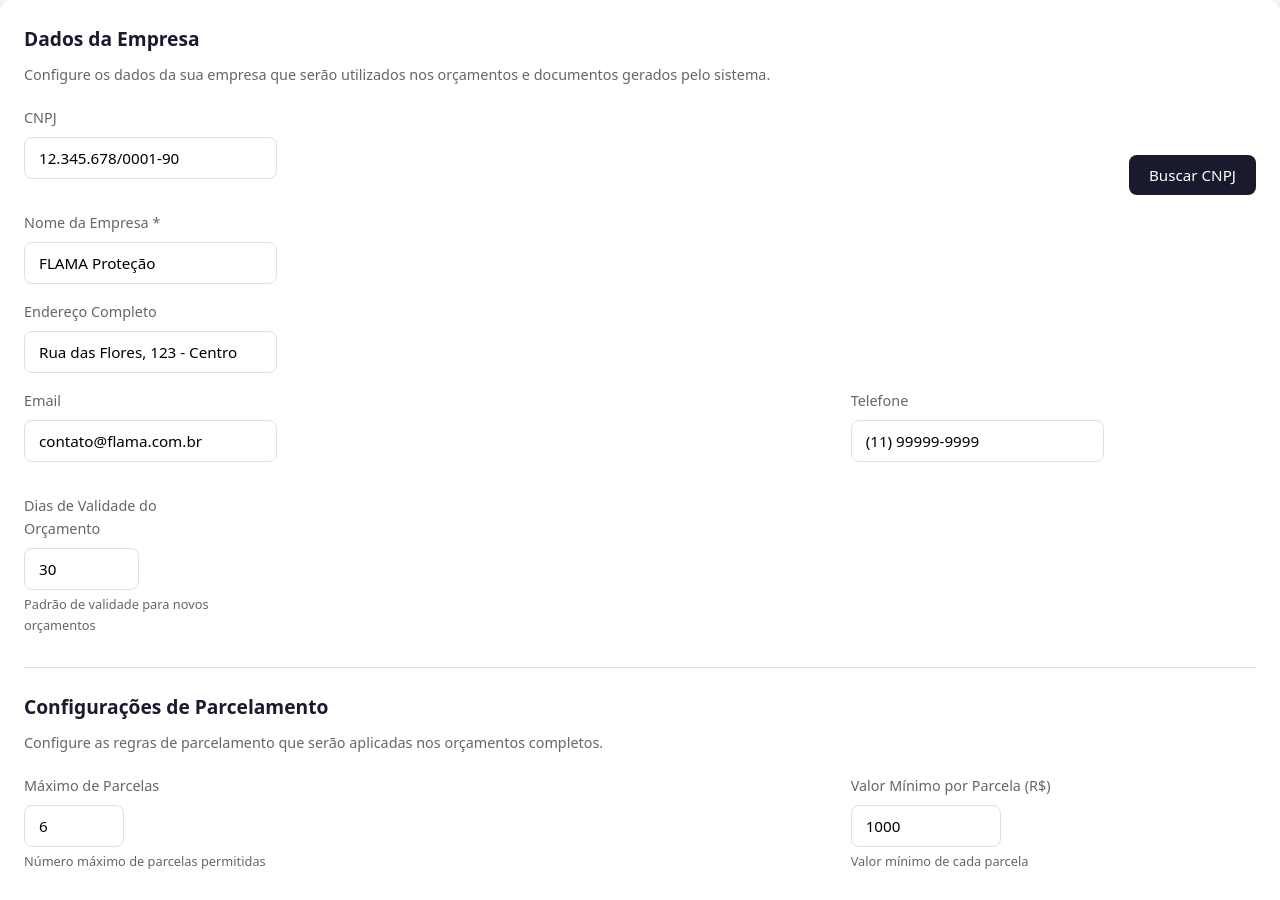
it: EmpresaTab › Interações com formulário › deve formatar CNPJ ao digitar
Replace the text in the 1st field showing "12.345.678/0001-90" with "11222333000181". click: point(150, 158)
box: [24,137,277,179]
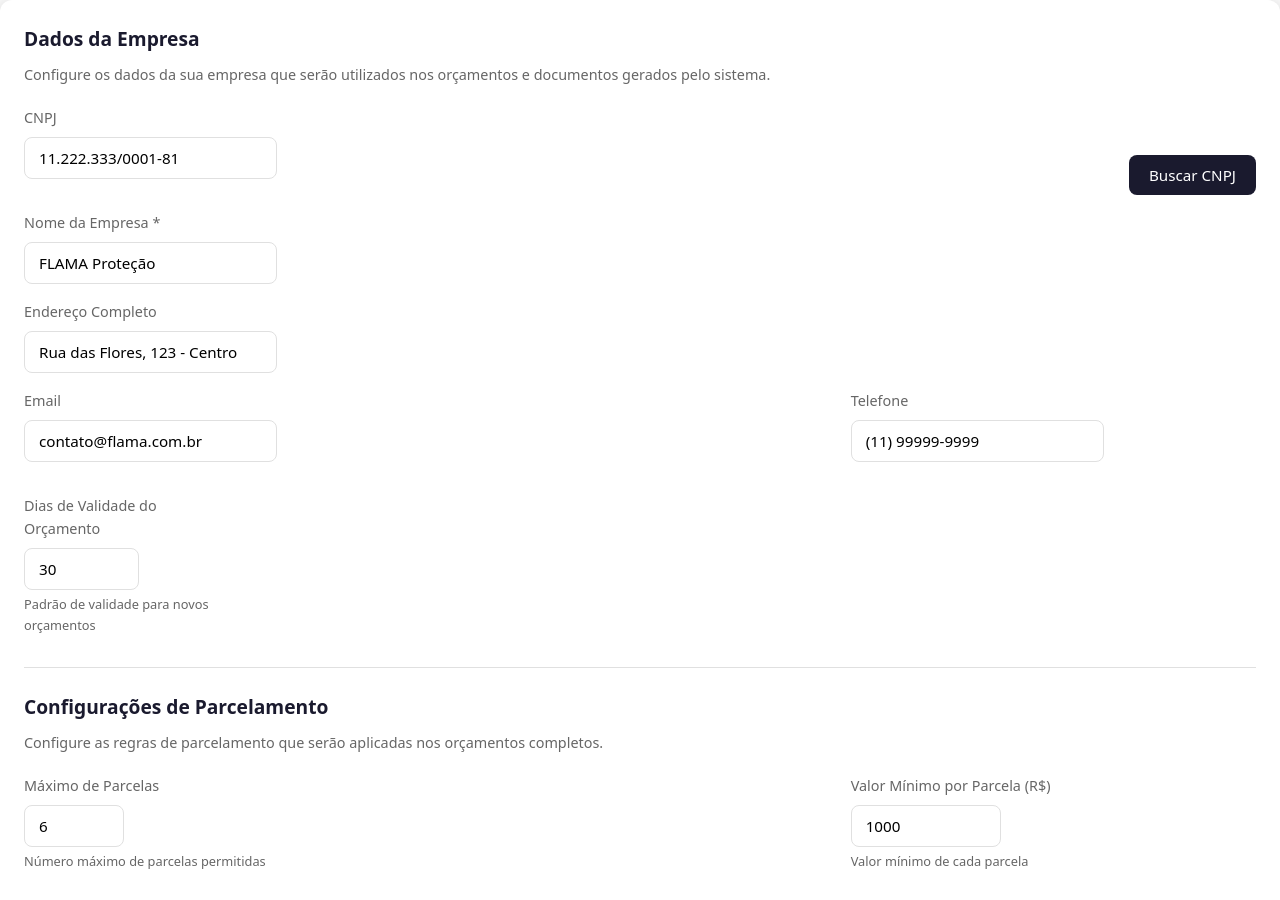
Check: the 1st field showing "11.222.333/0001-81" is shown, box [24,137,277,179]
